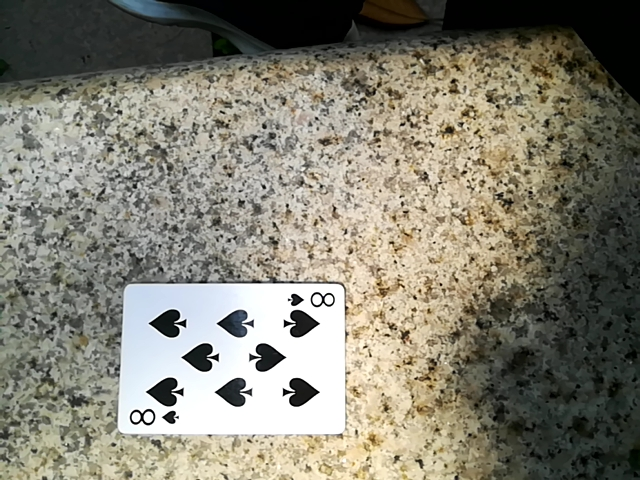ht 8: (109, 283, 345, 446)
